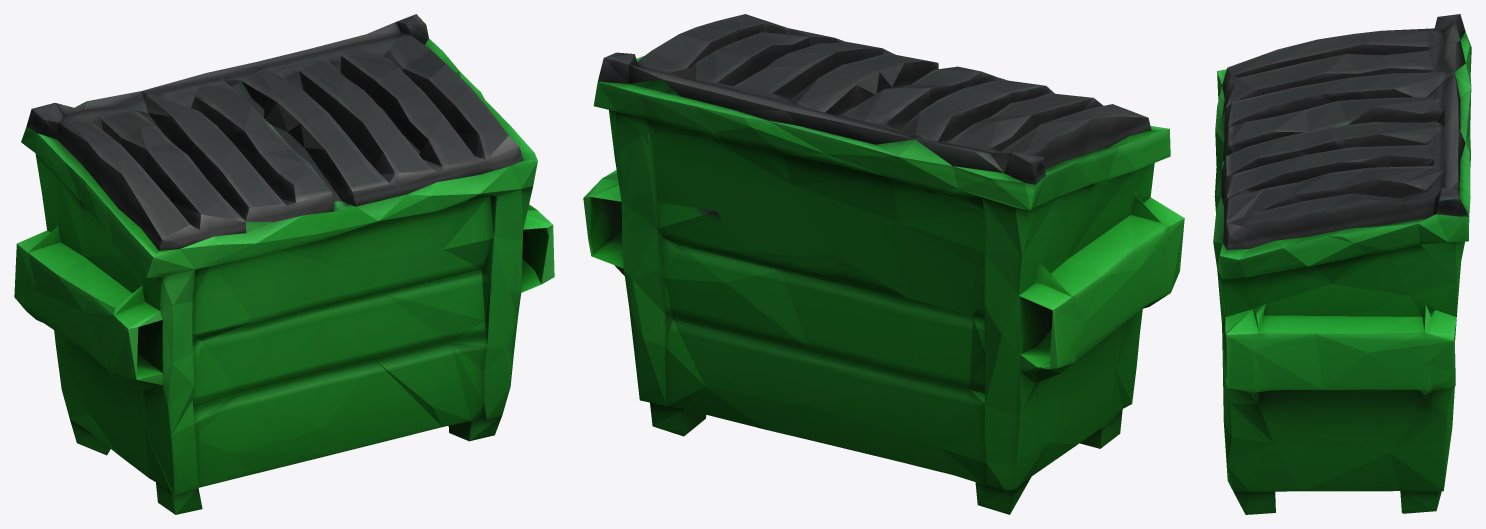
The model's file is dumpster.glb.
The picture shows the model from 3 angles, left to right: view 1: azimuth 30°, elevation 25°; view 2: azimuth 150°, elevation 25°; view 3: azimuth 270°, elevation 25°; orthographic projection. The views are drawn at different scales.
Visible parts, largest first — view 1: geometry_0; view 2: geometry_0; view 3: geometry_0.
Boxes of the visible parts, box(x1,y1,x2,y2) form: geometry_0: box(14, 14, 554, 514); geometry_0: box(583, 14, 1184, 514); geometry_0: box(1213, 14, 1471, 514).
Bounding box in the file's own units: 1 × 0.7574 × 0.529.
Materials: 1 (1 with a texture image).
